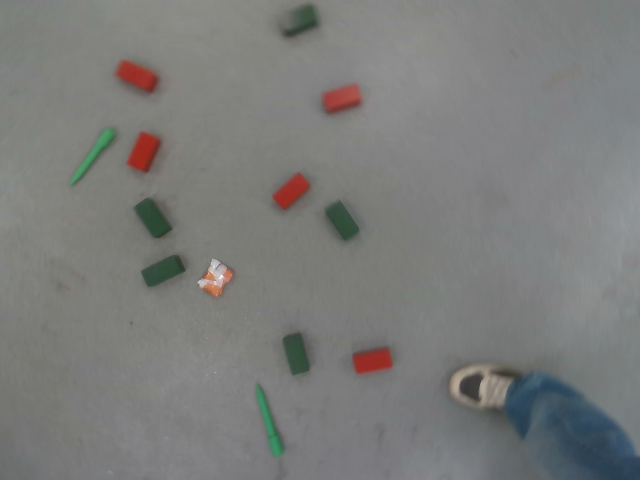Probe: (66, 124, 117, 188), (252, 380, 288, 458)
